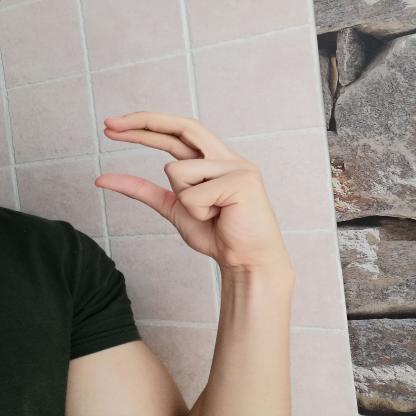DHELL: (85, 102, 297, 273)
